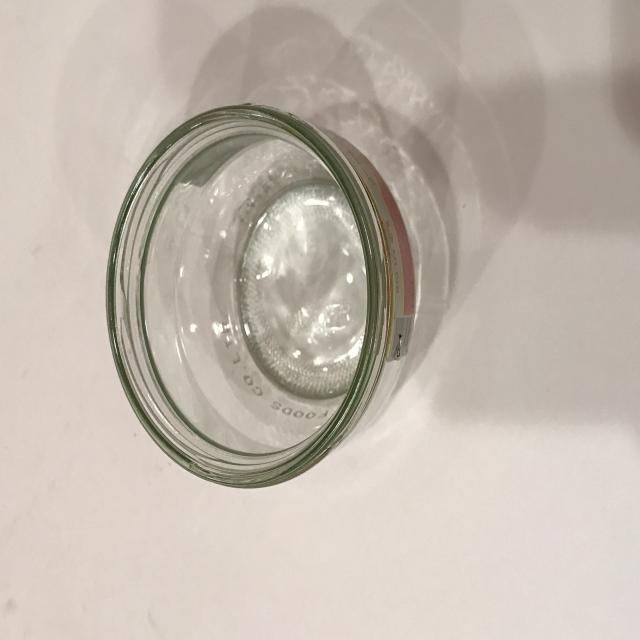glass: (101, 99, 420, 496)
